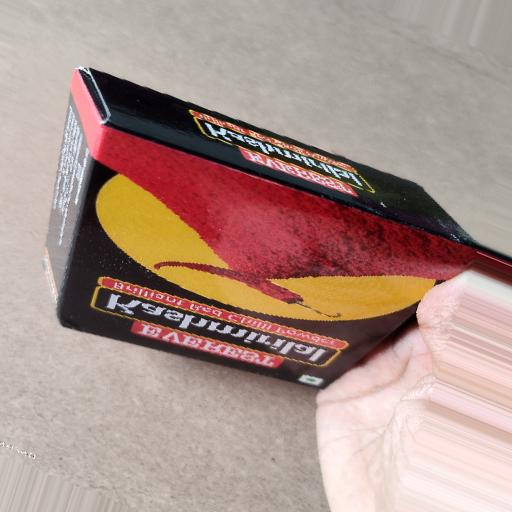Everest Kashmirilal: (14, 53, 505, 443)
